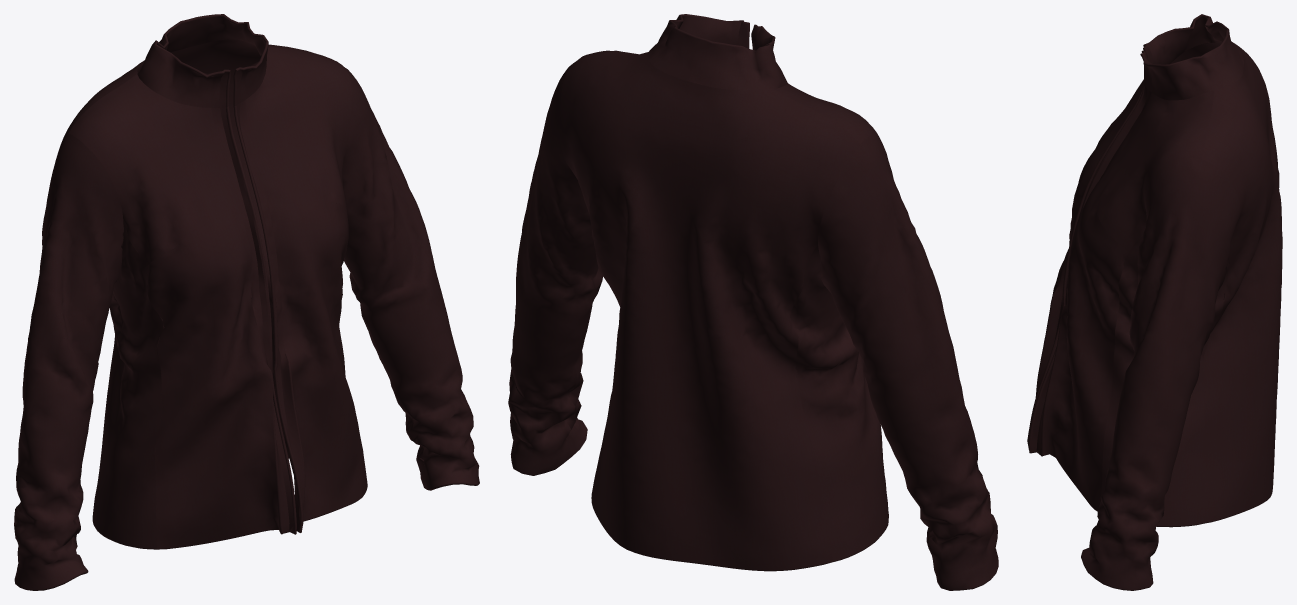
File: neiyi1.glb
3 views of the same model, side by side, from view 1: azimuth 30°, elevation 25°; view 2: azimuth 150°, elevation 25°; view 3: azimuth 270°, elevation 25° (orthographic). The views are drawn at different scales.
Visible parts, largest first — view 1: sz1li_3, sz1li_7, sz1li_9, sz1li_8, sz1li_5, sz1li_2, sz1li_10, sz1li_6, sz1li_1; view 2: sz1li_1, sz1li_9, sz1li_8, sz1li_5, sz1li_2, sz1li_3; view 3: sz1li_8, sz1li_1, sz1li_7, sz1li, sz1li_2, sz1li_6, sz1li_10, sz1li_3.
Part boxes in pixels (<box>): sz1li_3: <box>68,74,282,549</box>; sz1li_7: <box>245,46,362,521</box>; sz1li_9: <box>14,133,123,590</box>; sz1li_8: <box>342,68,479,490</box>; sz1li_5: <box>92,227,164,549</box>; sz1li_2: <box>137,14,268,107</box>; sz1li_10: <box>211,106,296,534</box>; sz1li_6: <box>233,100,305,532</box>; sz1li_1: <box>64,39,312,512</box>; sz1li_1: <box>559,53,860,571</box>; sz1li_9: <box>818,133,998,590</box>; sz1li_8: <box>508,62,602,475</box>; sz1li_5: <box>790,245,888,562</box>; sz1li_2: <box>646,14,787,90</box>; sz1li_3: <box>774,83,876,384</box>; sz1li_8: <box>1081,157,1240,590</box>; sz1li_1: <box>1202,42,1282,523</box>; sz1li_7: <box>1041,90,1214,511</box>; sz1li: <box>1100,234,1229,527</box>; sz1li_2: <box>1140,14,1243,100</box>; sz1li_6: <box>1028,86,1151,455</box>; sz1li_10: <box>1027,83,1143,449</box>; sz1li_3: <box>1035,42,1212,397</box>.
Size of the model in its own units: 6.36 by 6.62 by 3.32.
1 material, 1 textured.
